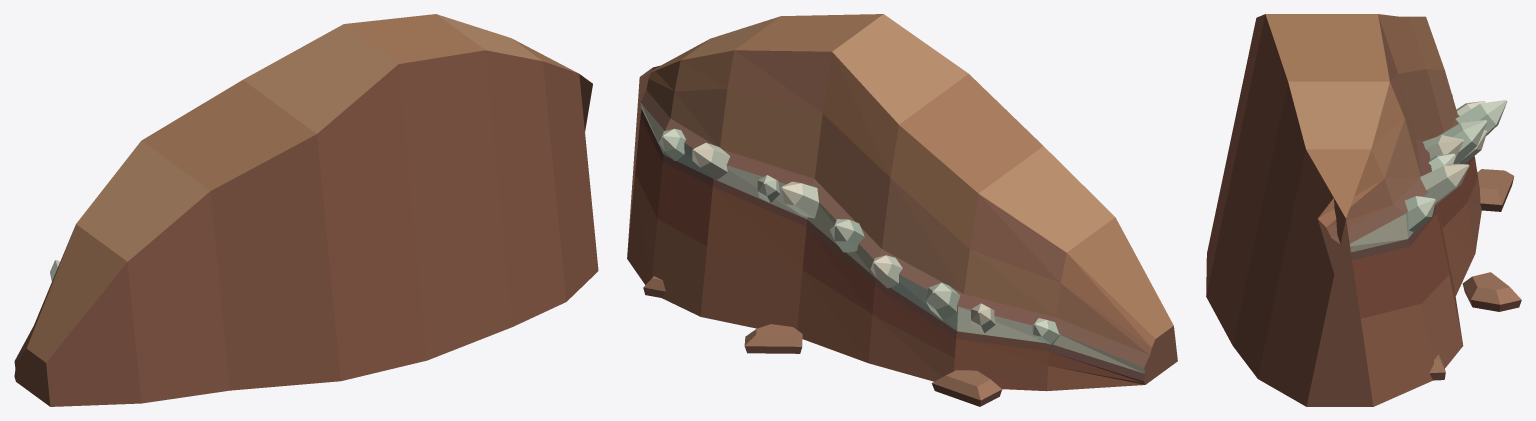
Rendered from canyon_quartz_seam.glb.
3 renders of one model, left to right at view 1: azimuth 30°, elevation 25°; view 2: azimuth 150°, elevation 25°; view 3: azimuth 270°, elevation 25°, orthographic. The views are drawn at different scales.
Visible parts, largest first — view 1: canyon_quartz_seam; view 2: canyon_quartz_seam; view 3: canyon_quartz_seam.
Part boxes in pixels (x1,y1,x2,y2): canyon_quartz_seam: (14,14,598,406); canyon_quartz_seam: (627,14,1177,406); canyon_quartz_seam: (1206,14,1521,406).
Size of the model in its own units: 8.58 by 4.1 by 4.15.
